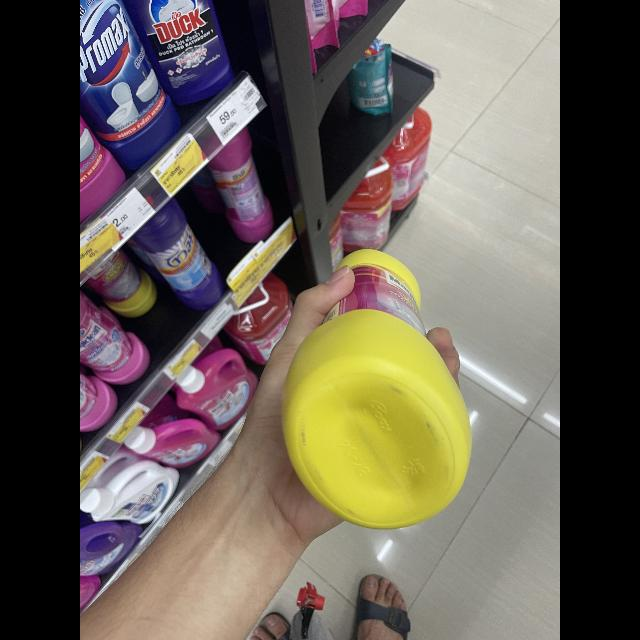chemical_plastic_bottle: (272, 242, 480, 534)
